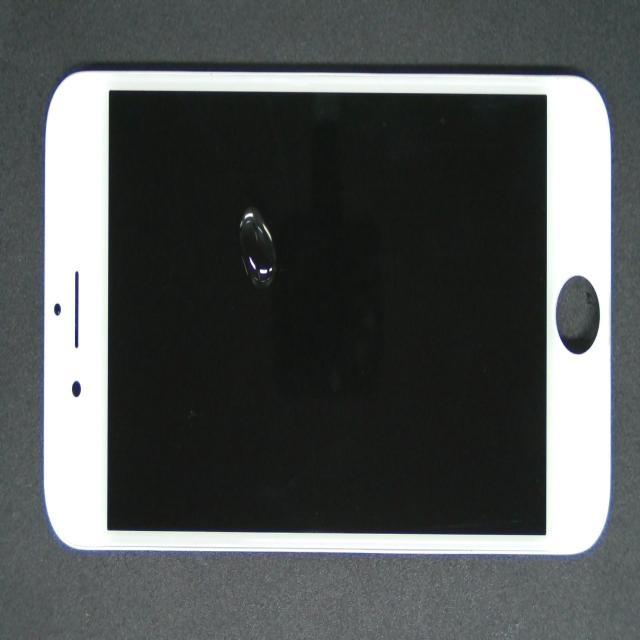oil: (152, 134, 402, 336)
